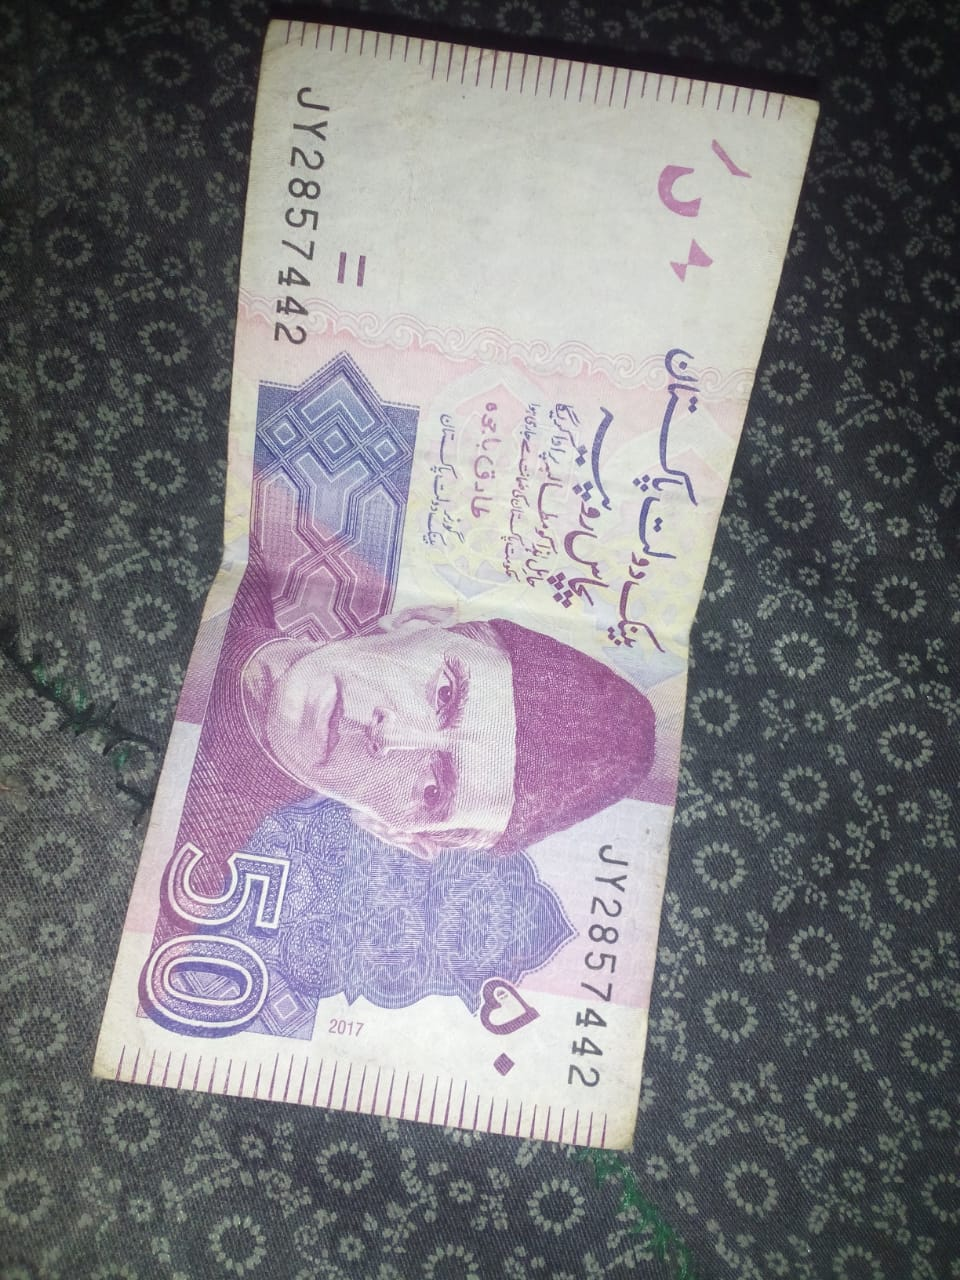50 rupee: (80, 11, 812, 1177)
